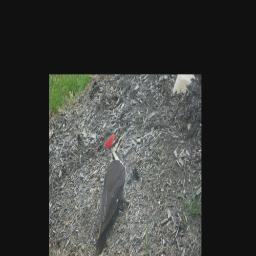Woodpecker: (92, 127, 133, 255)
